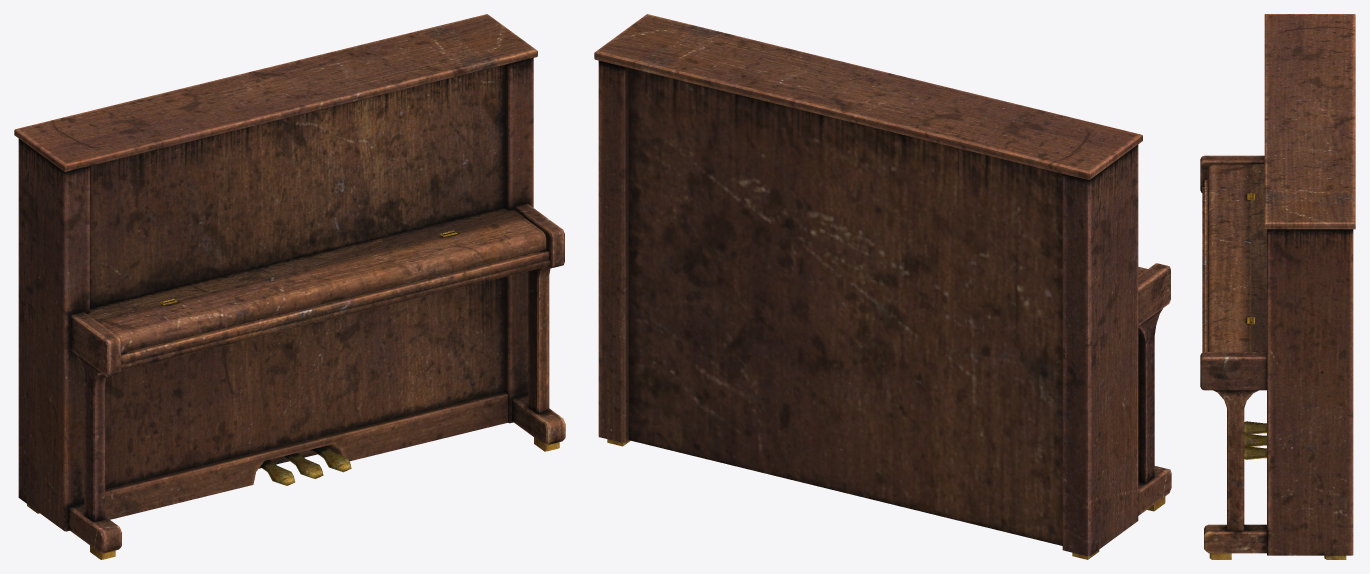
Rendered from piano.dae.
The picture shows the model from 3 angles, left to right: view 1: azimuth 30°, elevation 25°; view 2: azimuth 150°, elevation 25°; view 3: azimuth 270°, elevation 25°; orthographic projection. The views are drawn at different scales.
Parts seen in each view (by area): view 1: piano_base_mesh, piano_lid_mesh; view 2: piano_base_mesh; view 3: piano_base_mesh, piano_lid_mesh.
Boxes of the visible parts, <box> form: piano_base_mesh: <box>14,14,565,559</box>; piano_lid_mesh: <box>96,216,546,353</box>; piano_base_mesh: <box>594,14,1171,559</box>; piano_base_mesh: <box>1200,14,1355,559</box>; piano_lid_mesh: <box>1207,164,1251,351</box>.
Bounding box in the file's own units: 2.02 × 1.53 × 0.631.
